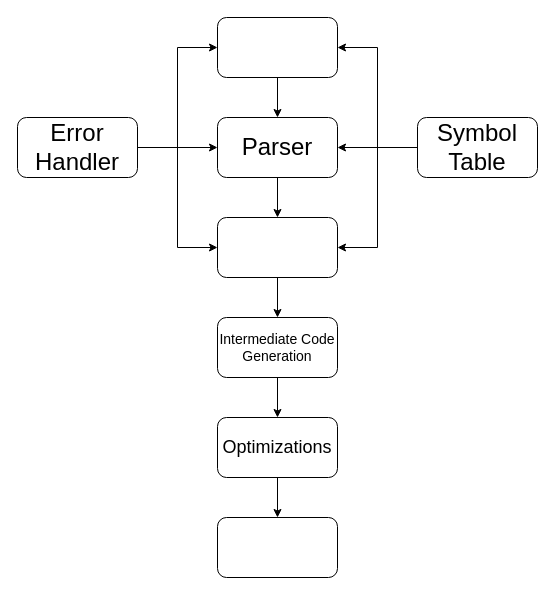
The diagram is 555 pixels wide and 595 high, and some of its shapes have lost their labels. The centre of each missing label's shape, as x and y in pixels:
"Code Generation" belongs at (277,547).
"Lexer" belongs at (277,47).
"Semantic Analysis" belongs at (277,247).
